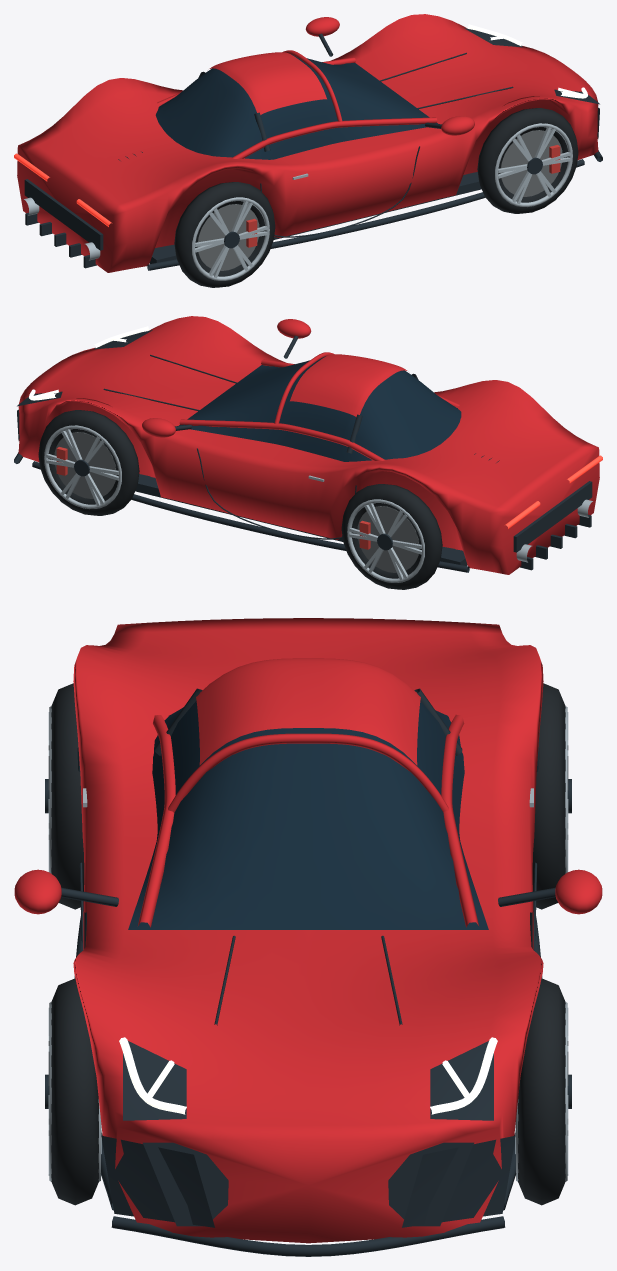
File: car14.glb
The picture shows the model from 3 angles, top to bottom: view 1: azimuth 30°, elevation 25°; view 2: azimuth 150°, elevation 25°; view 3: azimuth 270°, elevation 25°; orthographic projection. The views are drawn at different scales.
Visible parts, largest first — view 1: continuous-sculpted-body, CAR14, curved-windows, roof-panel; view 2: continuous-sculpted-body, CAR14, curved-windows, roof-panel; view 3: continuous-sculpted-body, CAR14, curved-windows, roof-panel.
Part boxes in pixels (left/top/right/bottom): continuous-sculpted-body: left=17, top=14, right=598, bottom=272; CAR14: left=14, top=17, right=602, bottom=287; curved-windows: left=155, top=54, right=437, bottom=159; roof-panel: left=209, top=52, right=326, bottom=114; continuous-sculpted-body: left=18, top=316, right=599, bottom=574; CAR14: left=14, top=319, right=602, bottom=589; curved-windows: left=179, top=356, right=461, bottom=461; roof-panel: left=290, top=354, right=407, bottom=416; continuous-sculpted-body: left=73, top=618, right=543, bottom=1243; CAR14: left=14, top=683, right=602, bottom=1256; curved-windows: left=128, top=701, right=488, bottom=929; roof-panel: left=196, top=658, right=420, bottom=765.
Size of the model in its own units: 4.54 by 1.3 by 2.22.
